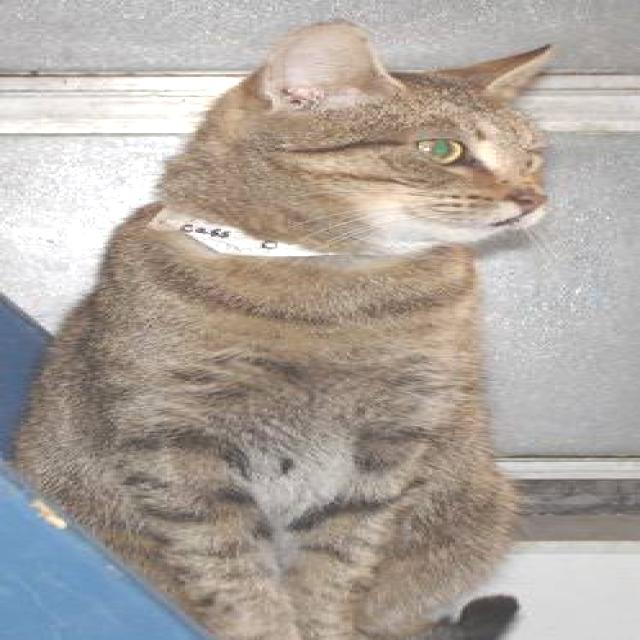Kucing: (37, 9, 640, 623)
